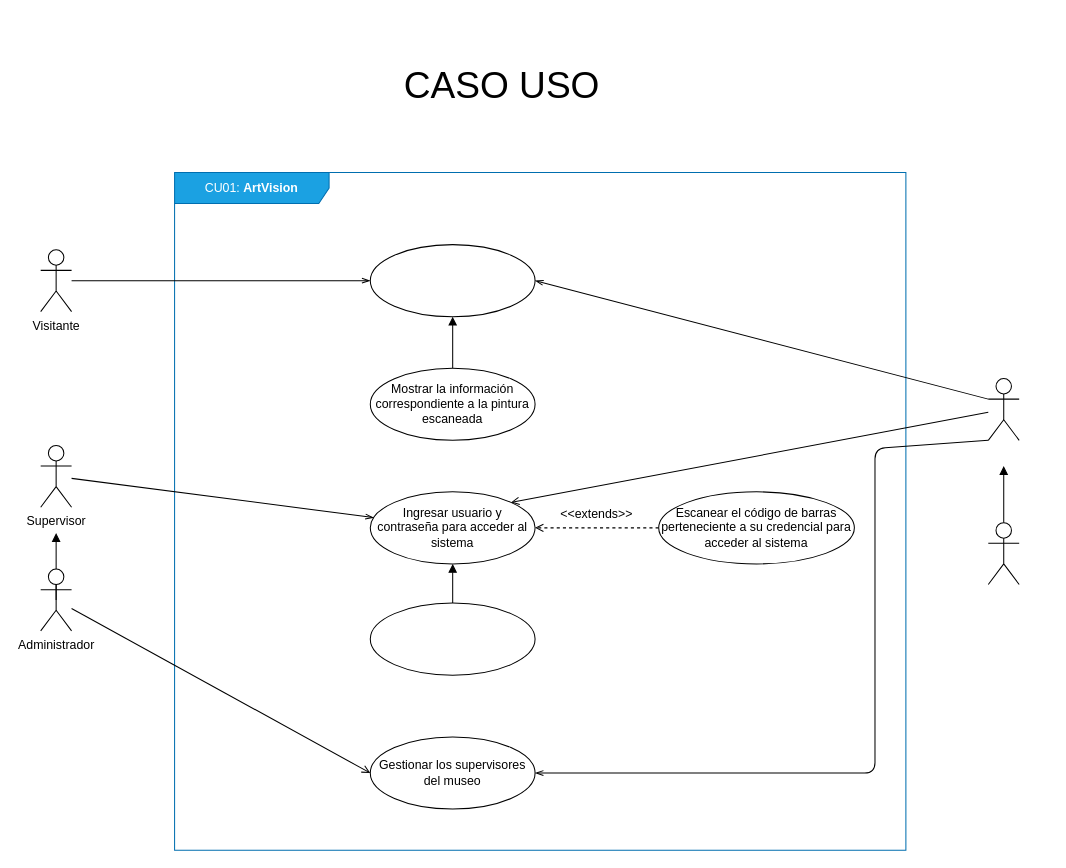
The diagram is 1066 pixels wide and 868 high, and some of its shapes have lost their labels. The box of each missing label's shape, as (x1, y1, x2, y2) in pixels:
Escanear el código de barras de la pintura: (369, 244, 535, 317)
Gestionar las pinturas del museo: (369, 602, 535, 675)
Lector de barras: (987, 522, 1019, 585)
Sistema: (987, 377, 1019, 440)
